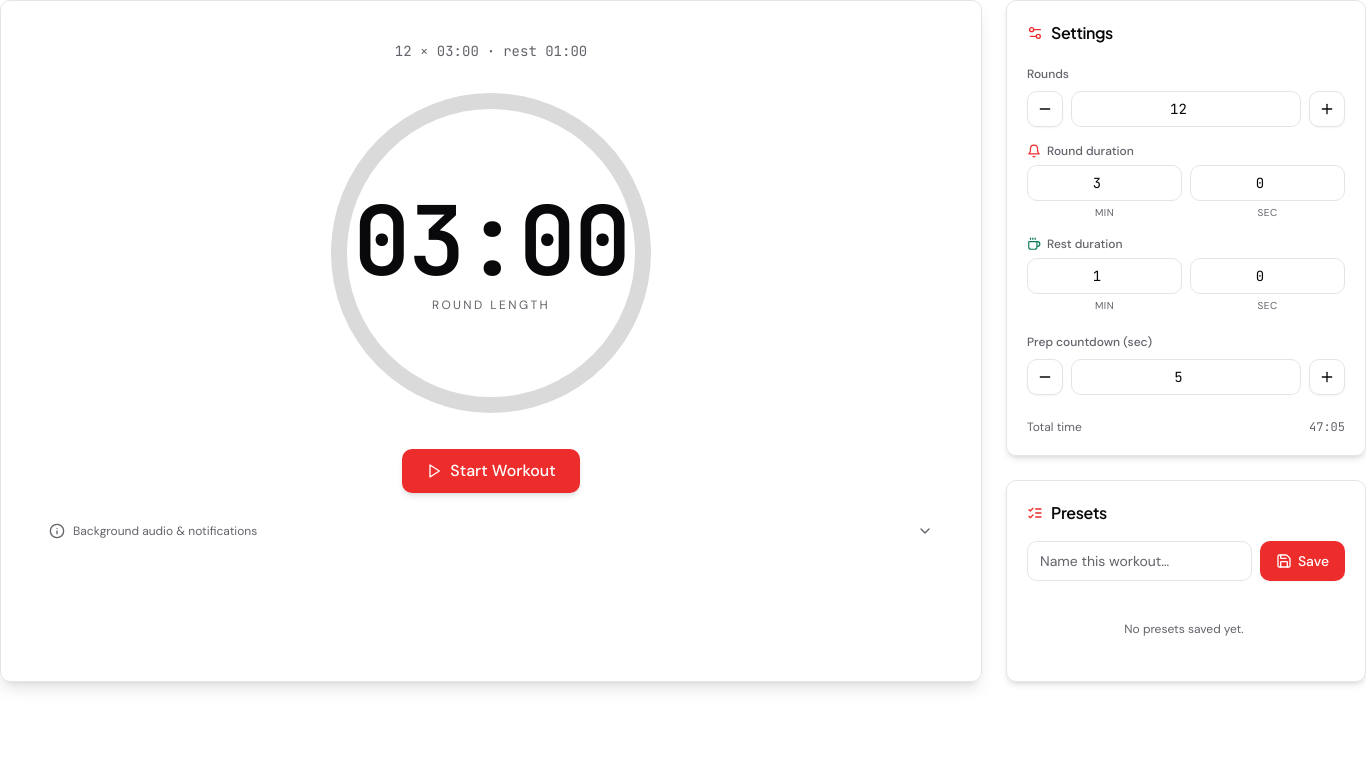
Test case: the work and rest phases are distinguished by a filled colour › paints the rest phase with the paired --rest tokens, which are a different fill
Replace the text in the number field named "Rounds" with "2": (1186, 109) [1071, 91, 1301, 127]
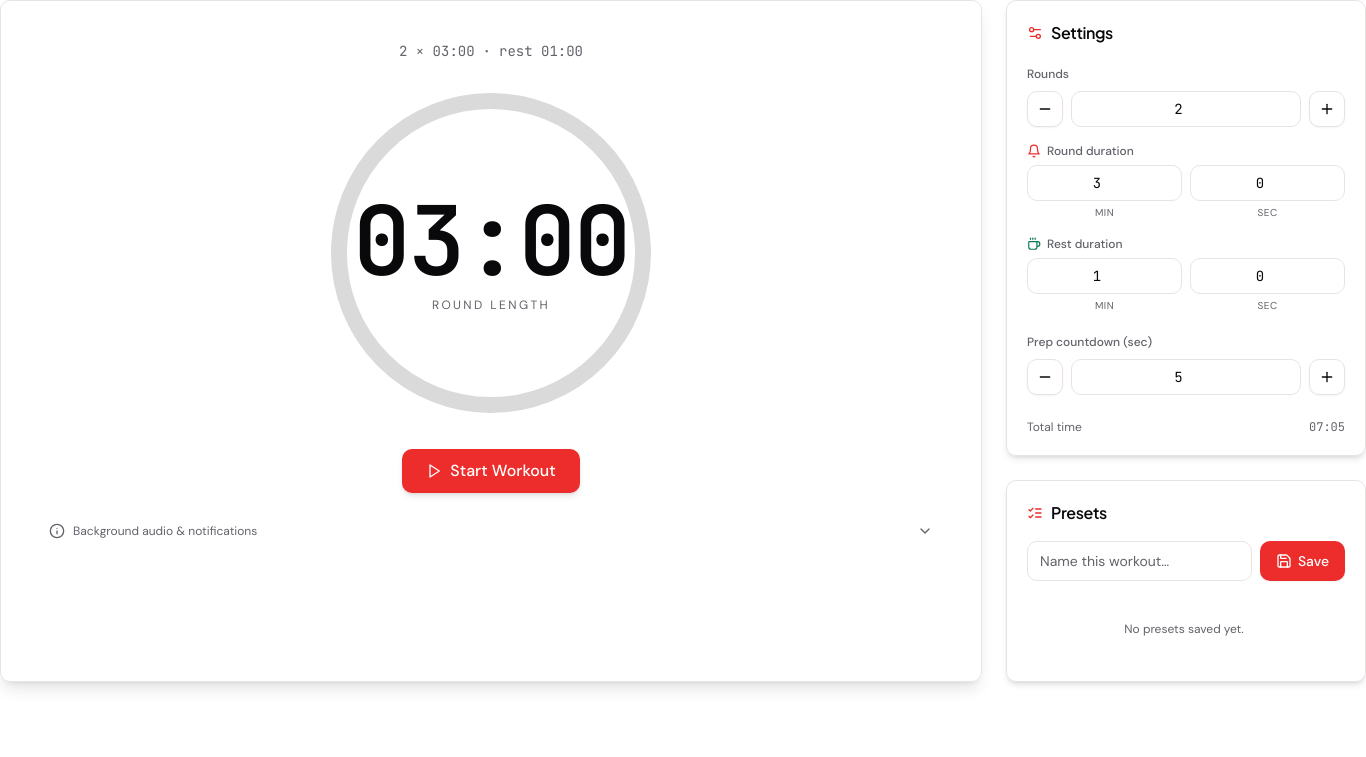
Replace the text in the number field named "Round duration minutes" with "0": (1104, 183) [1027, 165, 1182, 201]
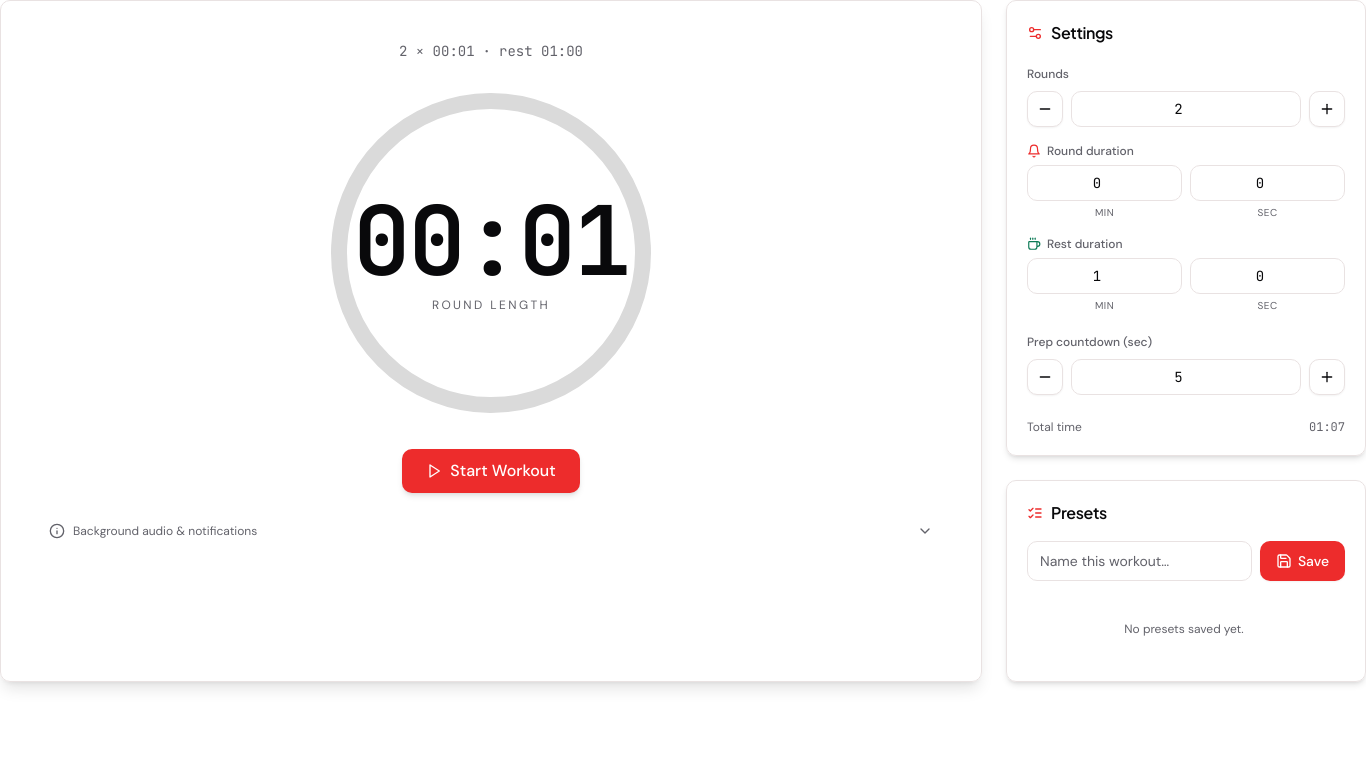
Replace the text in the number field named "Round duration seconds" with "2": (1268, 183) [1190, 165, 1345, 201]
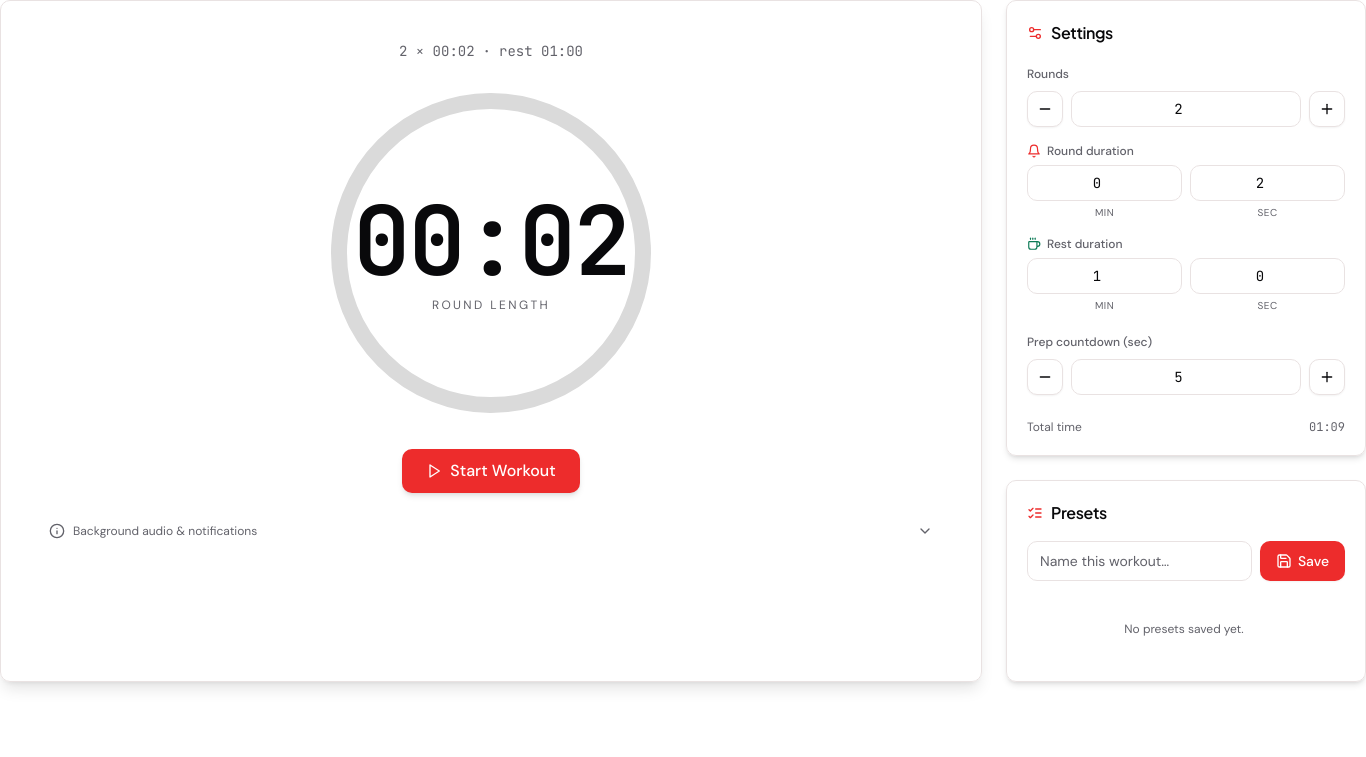
Replace the text in the number field named "Prep countdown (sec)" with "0": (1186, 377) [1071, 359, 1301, 395]
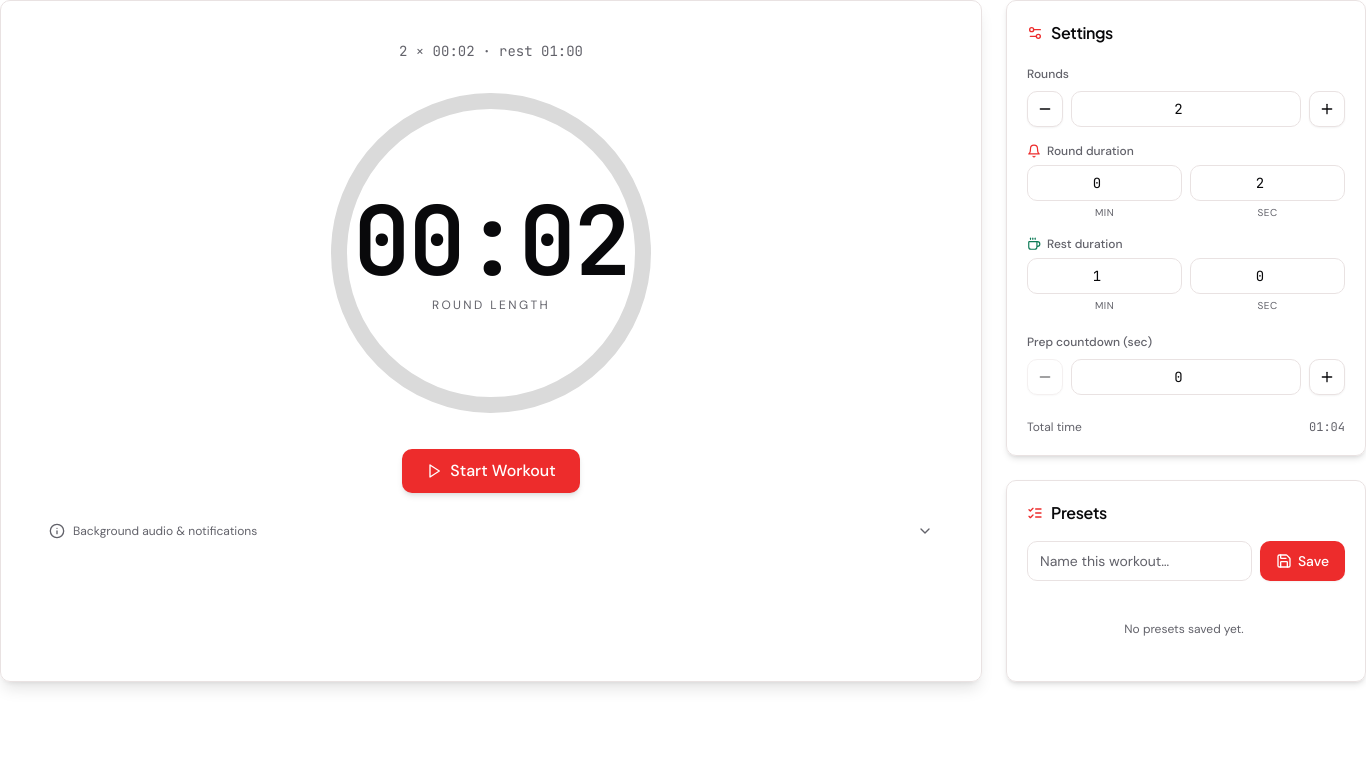
Click the button "Start Workout": click(491, 471) [402, 449, 580, 493]
Wait 2500 ms
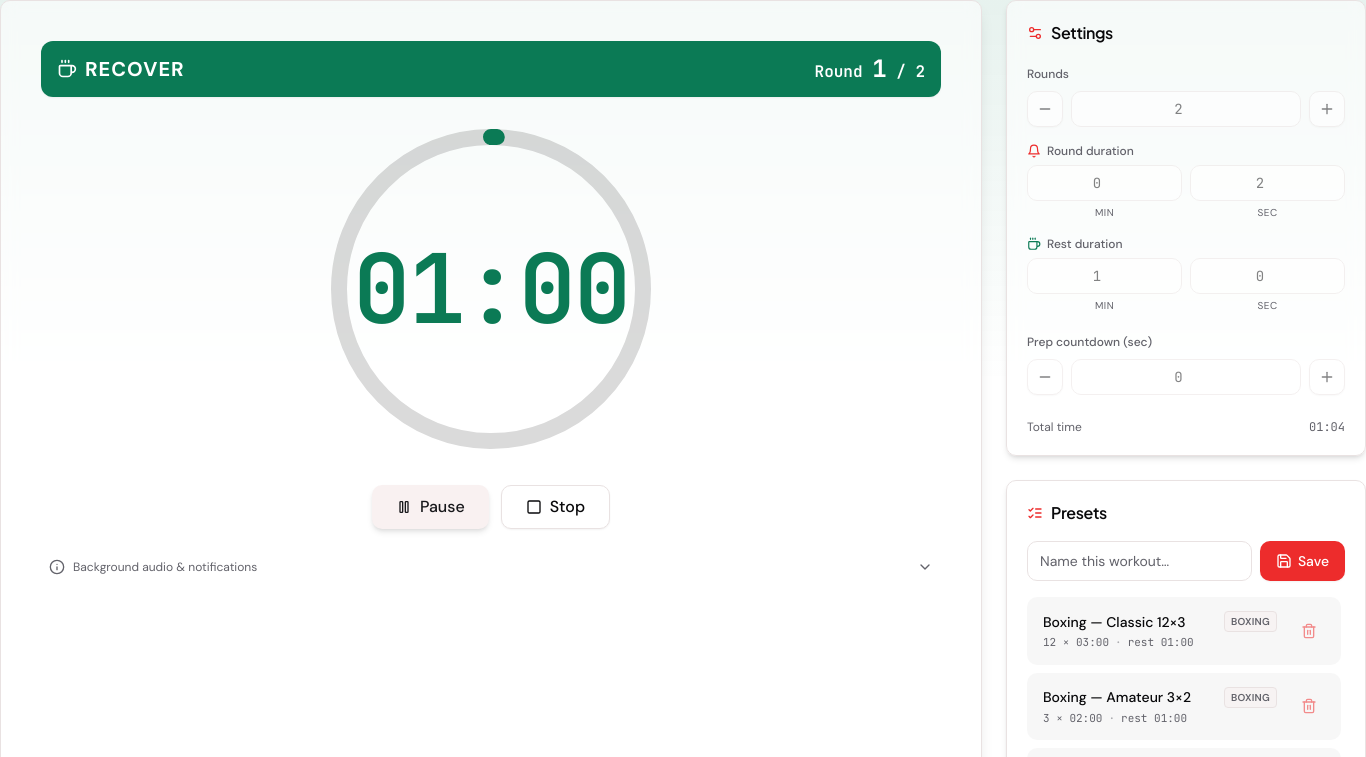
Check: the text "Recover" is shown, box [57, 55, 185, 83]
